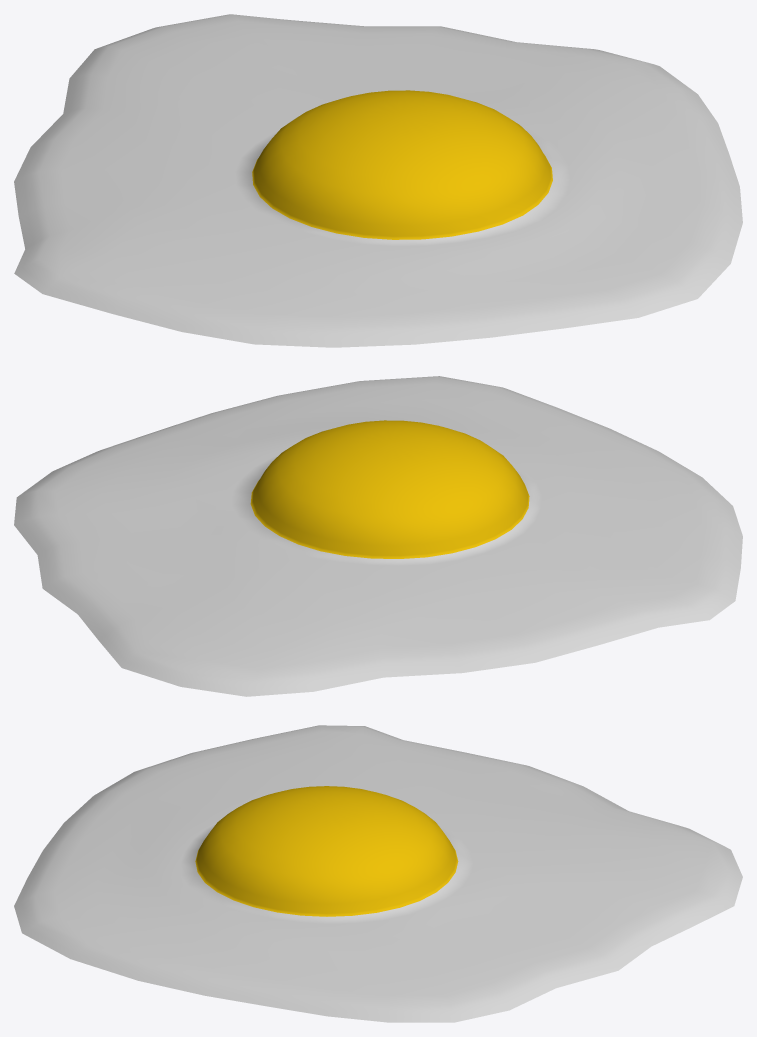
File: EggOverE7.fbx
3 views of the same model, one above another, from view 1: azimuth 30°, elevation 25°; view 2: azimuth 150°, elevation 25°; view 3: azimuth 270°, elevation 25° (orthographic). The views are drawn at different scales.
Visible parts, largest first — view 1: Sphere.022; view 2: Sphere.022; view 3: Sphere.022.
Boxes of the visible parts, x1,y1,x2,y2 form: Sphere.022: (14, 14, 742, 347); Sphere.022: (14, 376, 742, 696); Sphere.022: (14, 725, 742, 1022).
Size of the model in its own units: 528 by 61.24 by 549.
